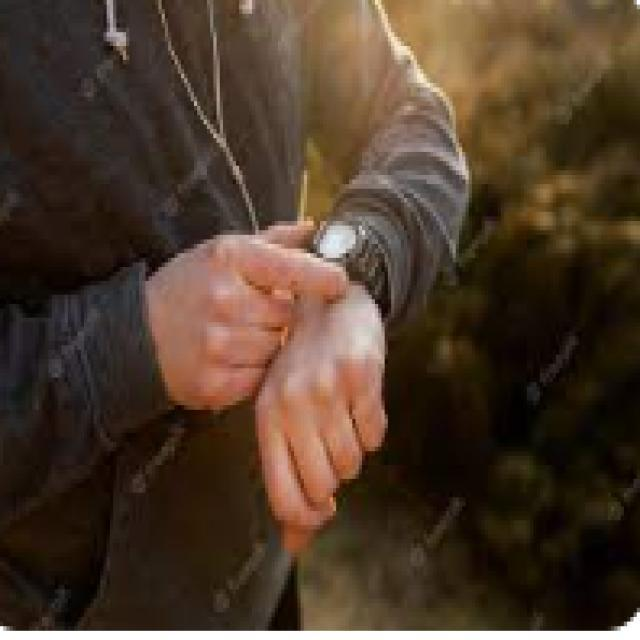Watch: (308, 212, 396, 298)
